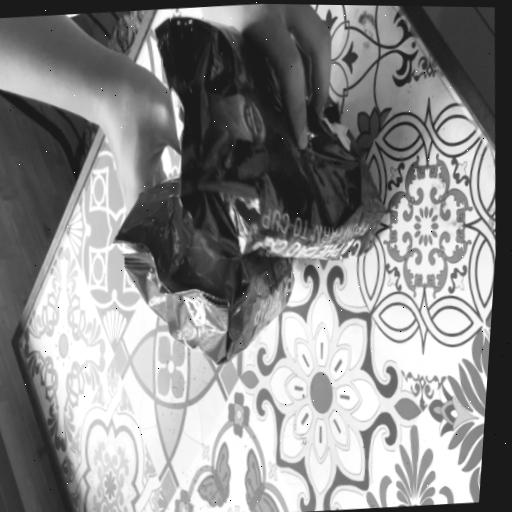cafe_hat: (156, 18, 385, 258)
cafe_xay: (115, 178, 293, 363)
